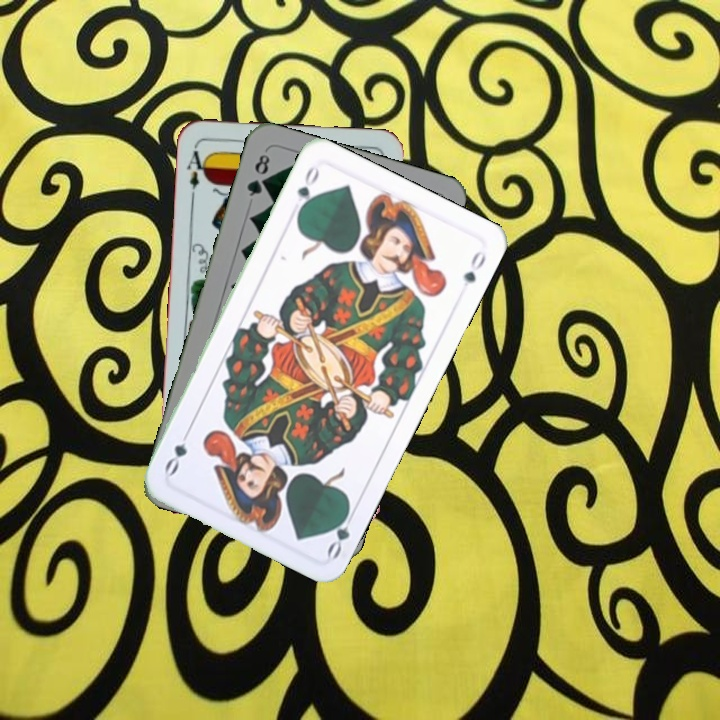EA: (182, 143, 210, 202)
G8: (242, 149, 273, 199)
GO: (323, 503, 359, 561), (293, 162, 322, 218)
